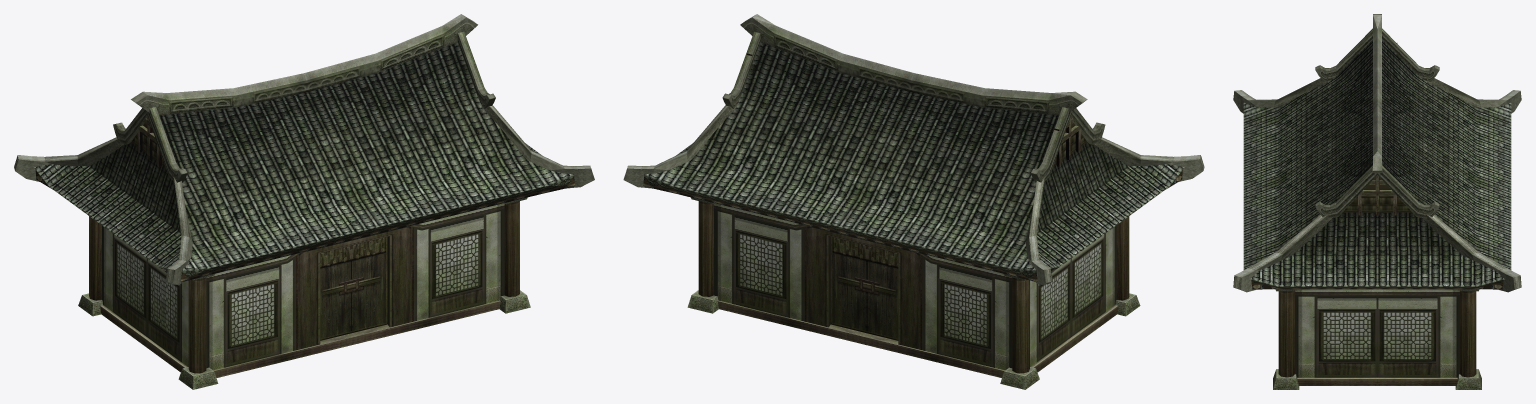
File: ob-10-04-house02.fbx
3 views of the same model, side by side, from view 1: azimuth 30°, elevation 25°; view 2: azimuth 150°, elevation 25°; view 3: azimuth 270°, elevation 25° (orthographic). The views are drawn at different scales.
Visible parts, largest first — view 1: Object01; view 2: Object01; view 3: Object01.
Part boxes in pixels (box(x1,y1,x2,y2)): Object01: box(14, 14, 594, 389); Object01: box(623, 14, 1204, 389); Object01: box(1233, 14, 1521, 389).
Bounding box in the file's own units: 13.77 × 7.74 × 8.82.
